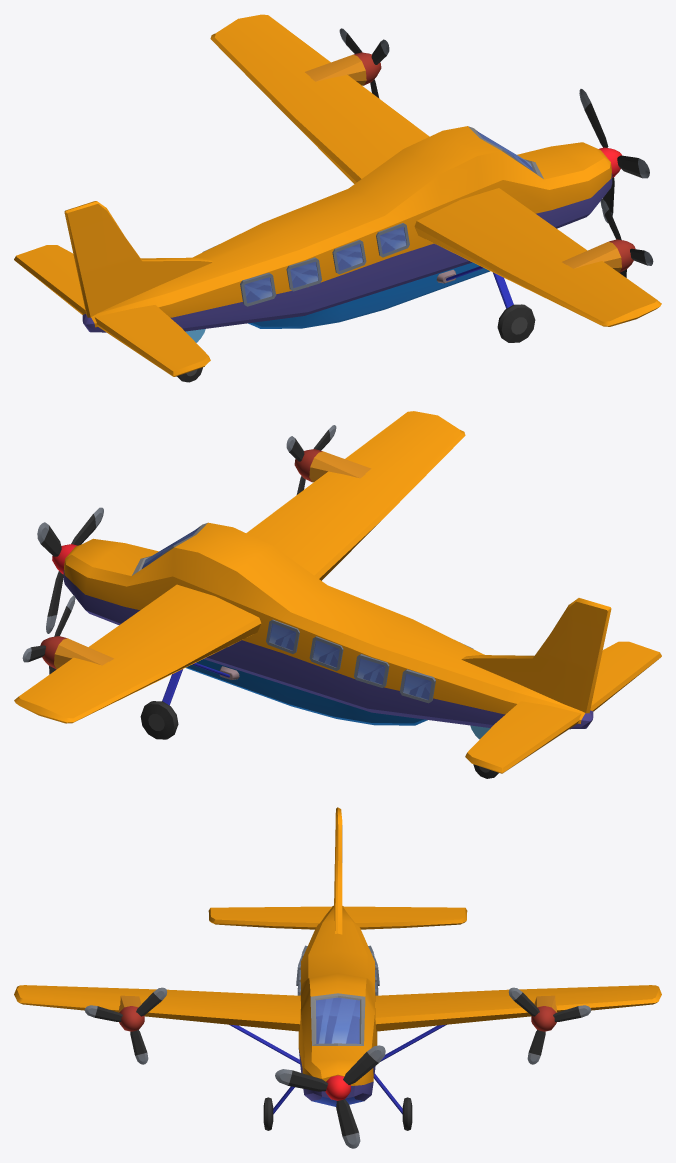
The picture shows the model from 3 angles, top to bottom: view 1: azimuth 30°, elevation 25°; view 2: azimuth 150°, elevation 25°; view 3: azimuth 270°, elevation 25°; orthographic projection. The views are drawn at different scales.
Parts seen in each view (by area): view 1: Plane_1_B, Propeler_F, Propeler_L, Propeler_R; view 2: Plane_1_B, Propeler_F, Propeler_R, Propeler_L; view 3: Plane_1_B, Propeler_F, Propeler_L, Propeler_R.
Boxes of the visible parts, x1,y1,x2,y2 form: Plane_1_B: (14,14,661,382); Propeler_F: (579,89,649,222); Propeler_L: (339,28,389,98); Propeler_R: (600,199,653,277); Plane_1_B: (14,411,661,778); Propeler_F: (37,507,103,633); Propeler_R: (286,425,336,494); Propeler_L: (22,595,75,674); Plane_1_B: (14,807,661,1130); Propeler_F: (275,1045,385,1148); Propeler_L: (508,987,591,1064); Propeler_R: (84,987,167,1064).
Bounding box in the file's own units: 1845 × 638 × 2298.
